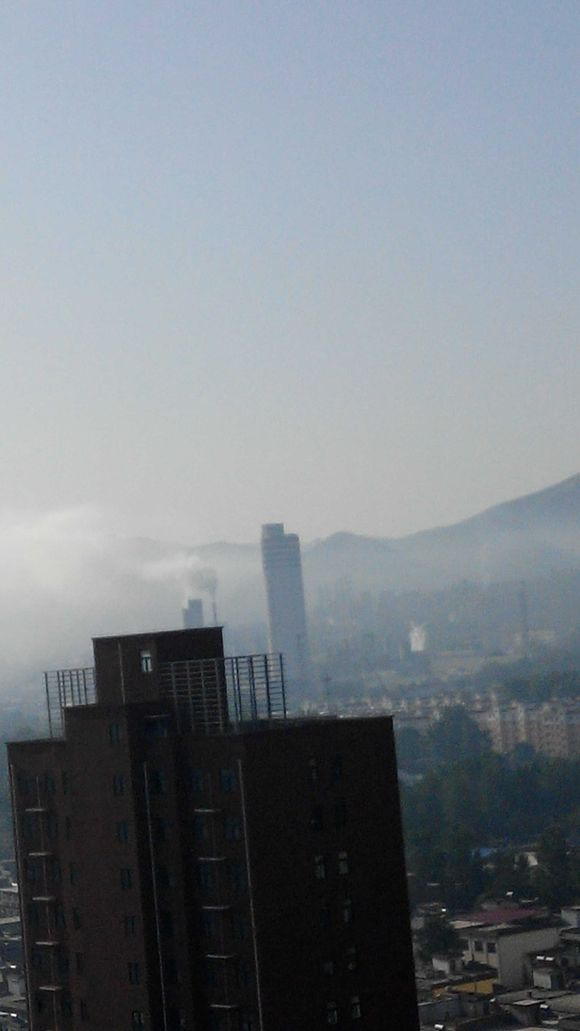dust: (130, 536, 233, 602)
